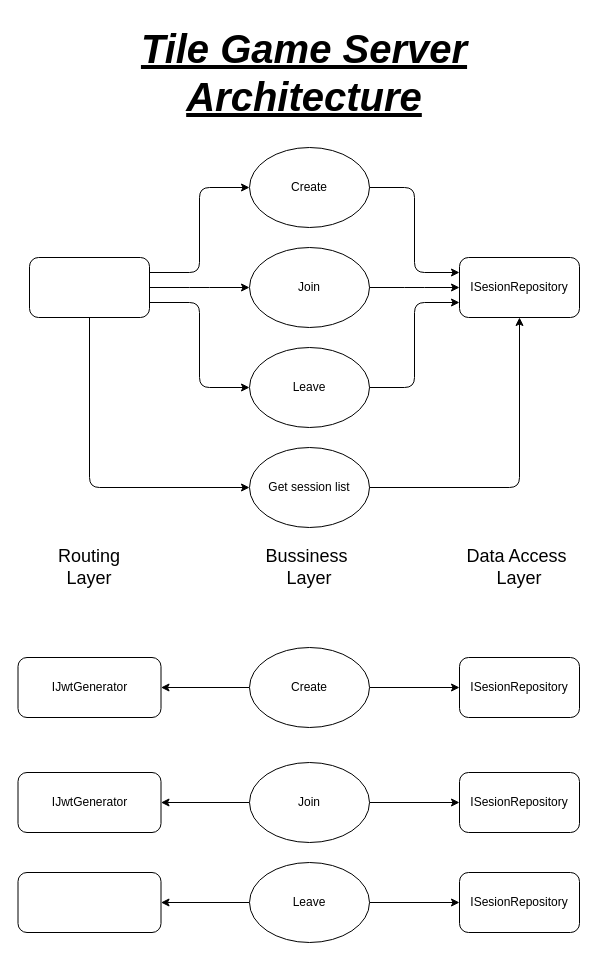
Image size: 601x960. Some labels were removed from this diagram. Each missing label, with the centre of its shape:
"IMessageQueueSender" goes at [89,902].
"Menu Controller" goes at [89,287].
